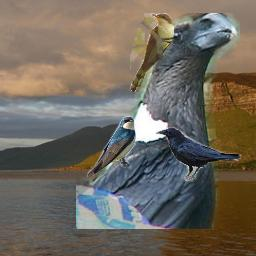Crow: (76, 13, 240, 229), (155, 127, 242, 182)
Cuckoo: (130, 13, 174, 93)
Swallow: (85, 114, 138, 178)
